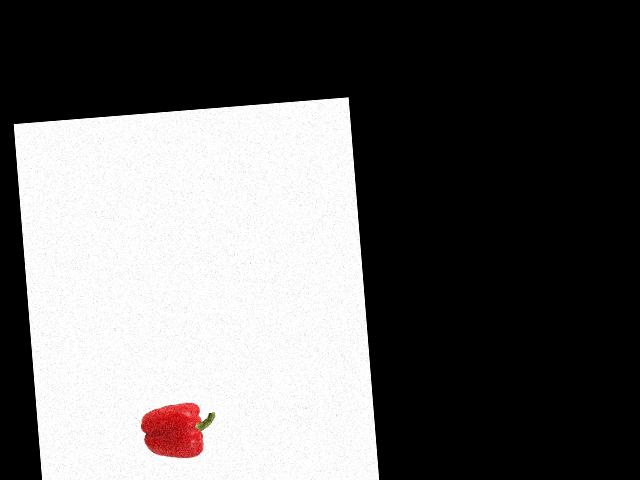bell_pepper: (138, 398, 218, 469)
